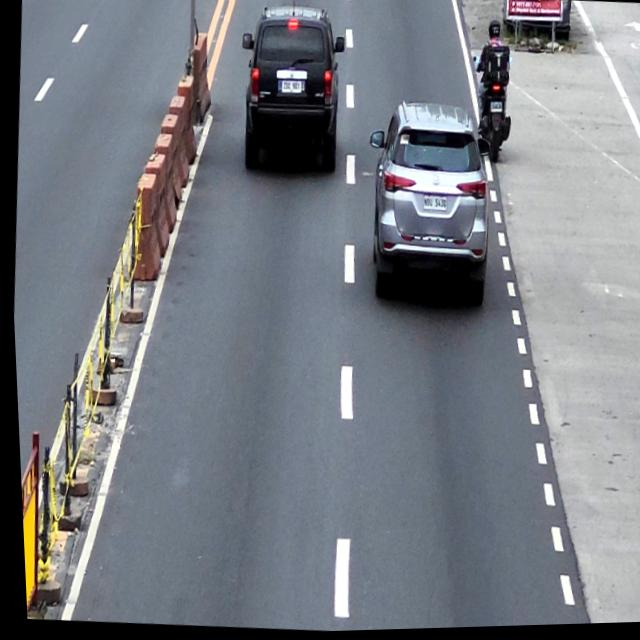Car: (354, 98, 499, 315), (231, 2, 350, 175)
License-Plate: (420, 196, 446, 215), (280, 81, 302, 96), (488, 103, 502, 116)
Motorcycle: (465, 52, 516, 169)
